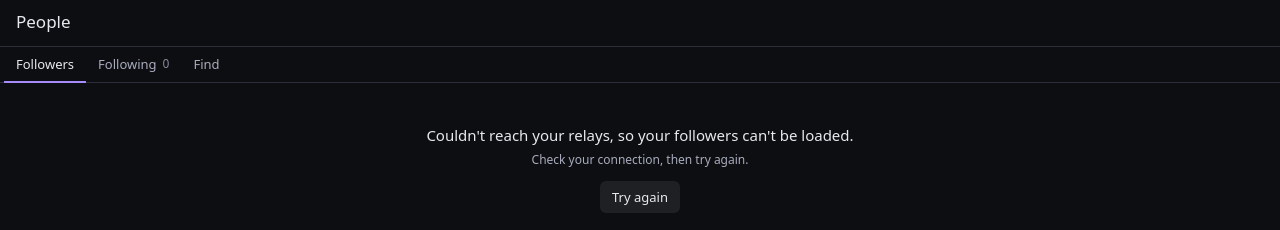
Test: FollowsView: Followers › asks again on Try again, and lists what that finds
Step 1. Click the button "Try again" → (640, 197), box [600,181,680,213]
Wait 3100 ms
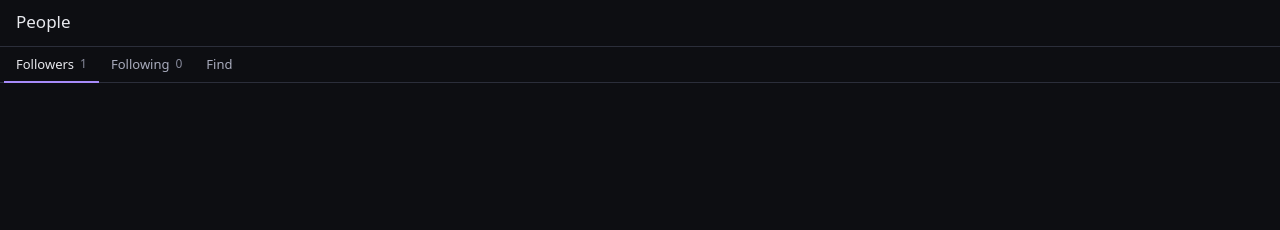
Now the tab "Followers 1" is shown, box [4,47,99,83]
